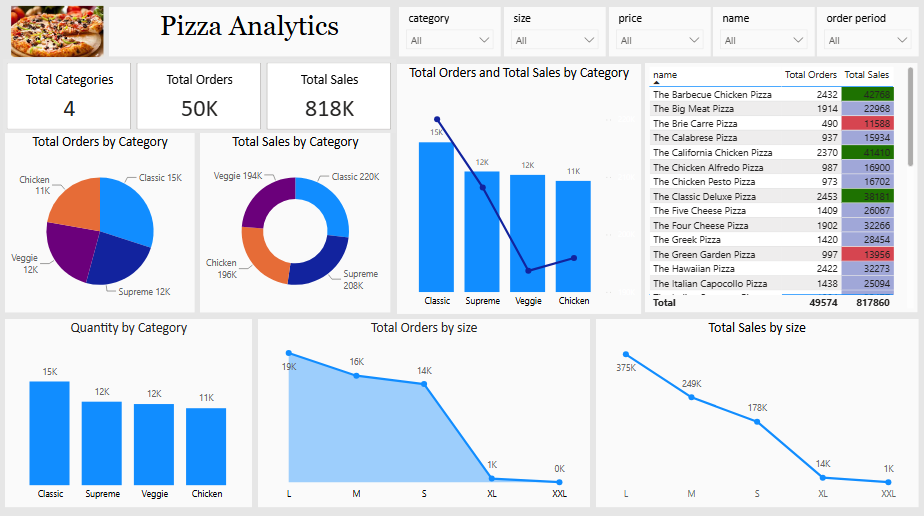

Layout of this report page (visuals, bound fields, positions):
{"tool":"powerbi","page":{"name":"Page 1","canvas":[1280,720],"ordinal":0},"visuals":[{"type":"slicer","fields":{"Values":["pizzas.size"]},"box":[700.4,17.9,139.7,68.1],"z":0,"group":"g4"},{"type":"pieChart","title":"Total Orders by Category","fields":{"Category":["pizza_types.category"],"Y":["order_details.Total Order"]},"box":[14.7,192.5,261.5,247.2],"z":0,"group":"g1"},{"type":"group","id":"g1","title":"Group 2","box":[9,11.6,1262.5,695.4],"z":1000,"group":"g5"},{"type":"slicer","fields":{"Values":["pizzas.price"]},"box":[844.6,17.9,139.7,68.1],"z":1000,"group":"g4"},{"type":"donutChart","title":"Total Sales by Category","fields":{"Category":["pizza_types.category"],"Y":["order_details.Total Sales"]},"box":[282.5,192.5,262.4,247.2],"z":1000,"group":"g1"},{"type":"group","id":"g2","title":"Group 1","box":[987.8,17.9,139.7,68.1],"z":2000,"group":"g4"},{"type":"lineStackedColumnComboChart","title":"Total Orders and Total Sales by Category","fields":{"Category":["pizza_types.category"],"Y":["order_details.Total Orders"],"Y2":["order_details.Total Sales"]},"box":[553.6,96.9,335.8,343.9],"z":2000,"group":"g1"},{"type":"textbox","box":[158,17.9,386.9,68.1],"z":3000,"group":"g1"},{"type":"group","id":"g3","title":"Group 1","box":[1132,17.9,139.7,68.1],"z":3000,"group":"g4"},{"type":"slicer","fields":{"Values":["pizza_types.category"]},"box":[556.2,17.9,139.7,68.1],"z":4000,"group":"g4"},{"type":"slicer","fields":{"Values":["pizza_types.name"]},"box":[987.8,17.9,139.7,68.1],"z":4000,"group":"g2"},{"type":"slicer","fields":{"Values":["orders.Order Period"]},"box":[1132,17.9,139.7,68.1],"z":4000,"group":"g3"},{"type":"cardVisual","fields":{"Data":["pizza_types.Total Categories","order_details.Total Orders","order_details.Total Sales"]},"box":[12,90.5,540.9,102.1],"z":4000,"group":"g1"},{"type":"group","id":"g4","title":"Group 3","box":[556.2,17.9,715.5,68.1],"z":4002,"group":"g5"},{"type":"group","id":"g5","title":"Group 4","box":[9,11.6,1262.7,695.8],"z":4003},{"type":"columnChart","title":"Quantity by Category","fields":{"Category":["pizza_types.category"],"Y":["Sum(order_details.quantity)"]},"box":[14.8,448.3,340.4,258.7],"z":5000,"group":"g1"},{"type":"lineChart","fields":{"Y":["order_details.Total Orders"],"Category":["pizzas.size"]},"box":[363,448.3,457.1,258.7],"z":6000,"group":"g1"},{"type":"tableEx","fields":{"Values":["pizza_types.name","order_details.Total Orders","order_details.Total Sales"]},"box":[896.1,96.2,375.4,343.3],"z":7000,"group":"g1"},{"type":"lineChart","fields":{"Y":["order_details.Total Sales"],"Category":["pizzas.size"]},"box":[828,448.3,443.5,258.7],"z":8000,"group":"g1"},{"type":"image","box":[9,11.6,154.7,80.7],"z":9000,"group":"g1"}]}

Visuals, with their boxes in screenshot pixels (x1, y1, x2, y2), scaled from the page's 1280x720 canvas onto the 924x516 screenshot:
slicer - pizzas.size: (506,13,606,62)
"Total Orders by Category" pieChart: (11,138,199,315)
"Group 2" group: (6,8,918,507)
slicer - pizzas.price: (610,13,711,62)
"Total Sales by Category" donutChart: (204,138,393,315)
"Group 1" group: (713,13,814,62)
"Total Orders and Total Sales by Category" lineStackedColumnComboChart: (400,69,642,316)
textbox: (114,13,393,62)
"Group 1" group: (817,13,918,62)
slicer - pizza_types.category: (402,13,502,62)
slicer - pizza_types.name: (713,13,814,62)
slicer - orders.Order Period: (817,13,918,62)
cardVisual - pizza_types.Total Categories x order_details.Total Orders: (9,65,399,138)
"Group 3" group: (402,13,918,62)
"Group 4" group: (6,8,918,507)
"Quantity by Category" columnChart: (11,321,256,507)
lineChart - order_details.Total Orders x pizzas.size: (262,321,592,507)
tableEx - pizza_types.name x order_details.Total Orders: (647,69,918,315)
lineChart - order_details.Total Sales x pizzas.size: (598,321,918,507)
image: (6,8,118,66)
